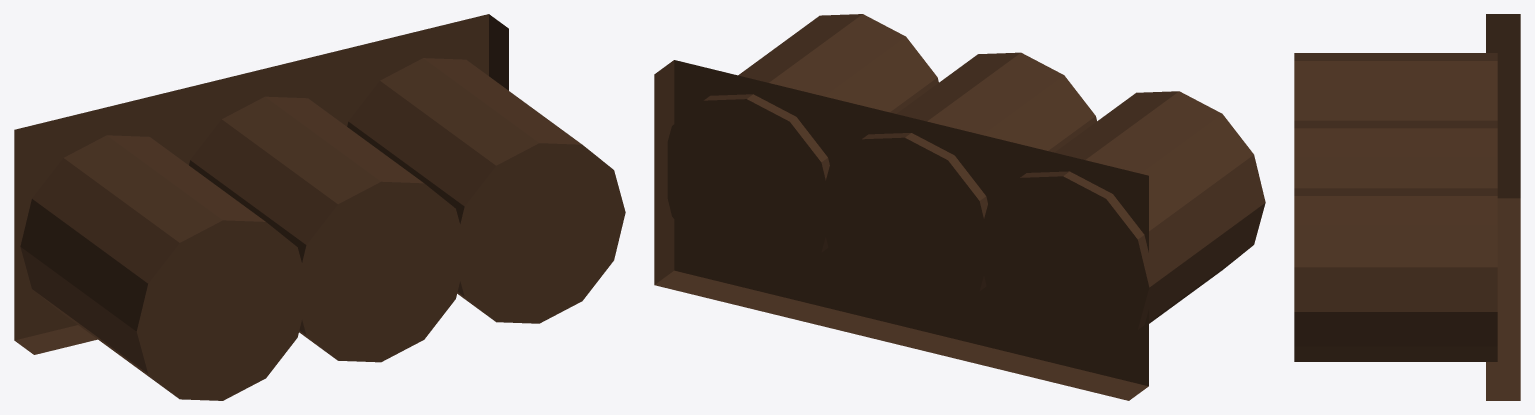
The model's file is SM_BreeAleCaskRack.obj.
3 renders of one model, left to right at view 1: azimuth 30°, elevation 25°; view 2: azimuth 150°, elevation 25°; view 3: azimuth 270°, elevation 25°, orthographic. The views are drawn at different scales.
Visible parts, largest first — view 1: SM_BreeAleCaskRack; view 2: SM_BreeAleCaskRack; view 3: SM_BreeAleCaskRack.
Boxes of the visible parts, x1,y1,x2,y2 form: SM_BreeAleCaskRack: (14, 14, 625, 400); SM_BreeAleCaskRack: (654, 14, 1265, 400); SM_BreeAleCaskRack: (1294, 14, 1520, 400).
Size of the model in its own units: 170 by 70 by 78.
